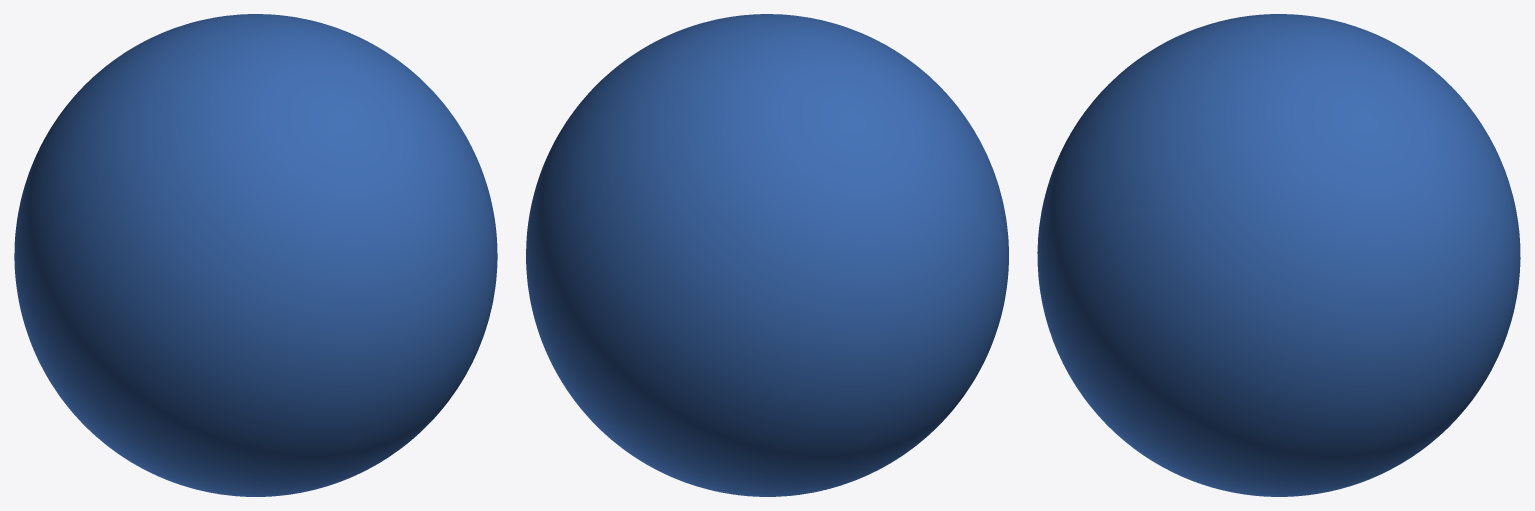
File: blue2.fbx
3 views of the same model, side by side, from view 1: azimuth 30°, elevation 25°; view 2: azimuth 150°, elevation 25°; view 3: azimuth 270°, elevation 25° (orthographic).
Parts seen in each view (by area): view 1: Object_1; view 2: Object_1; view 3: Object_1.
Part boxes in pixels (left/top/right/bottom): Object_1: left=14, top=14, right=497, bottom=496; Object_1: left=526, top=14, right=1008, bottom=496; Object_1: left=1037, top=14, right=1520, bottom=496.
Size of the model in its own units: 0.5122 by 0.5122 by 0.5122.
